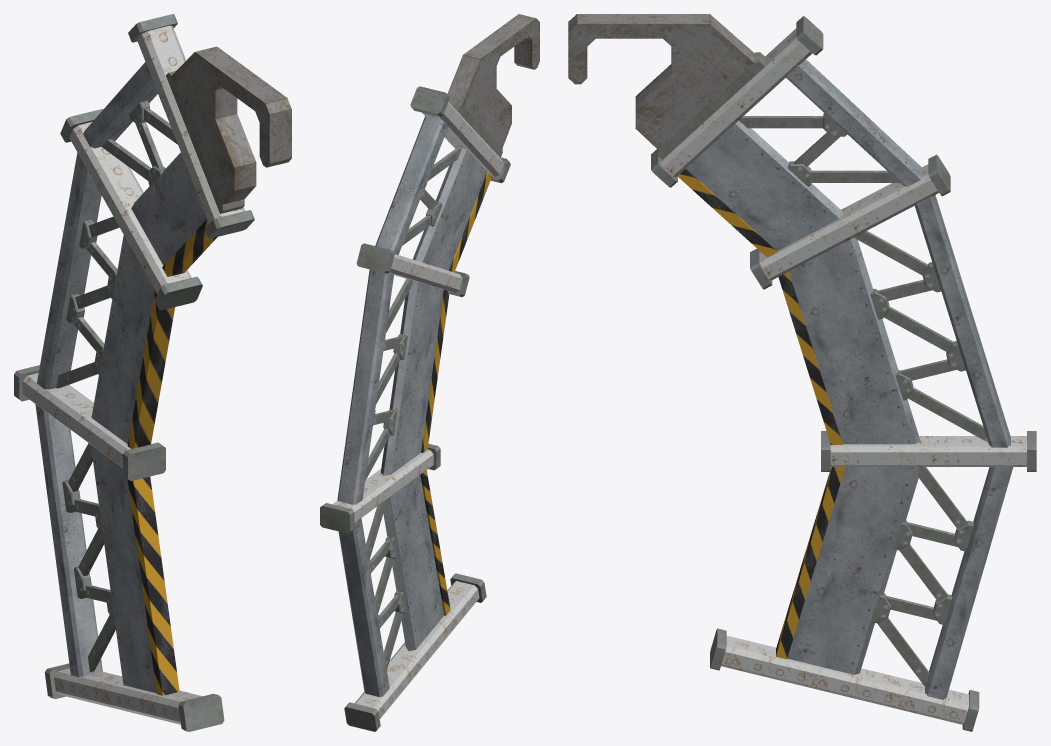
File: Ob_FloatingTunnelConnector_RC.fbx
The picture shows the model from 3 angles, left to right: view 1: azimuth 30°, elevation 25°; view 2: azimuth 150°, elevation 25°; view 3: azimuth 270°, elevation 25°; orthographic projection. The views are drawn at different scales.
Parts seen in each view (by area): view 1: Ob_FloatingTunnelConnector_RC; view 2: Ob_FloatingTunnelConnector_RC; view 3: Ob_FloatingTunnelConnector_RC.
Part boxes in pixels (bbox=[...]): Ob_FloatingTunnelConnector_RC: bbox=[14, 14, 291, 731]; Ob_FloatingTunnelConnector_RC: bbox=[320, 14, 539, 731]; Ob_FloatingTunnelConnector_RC: bbox=[568, 14, 1036, 731].
Size of the model in its own units: 144 by 2702 by 1625.
